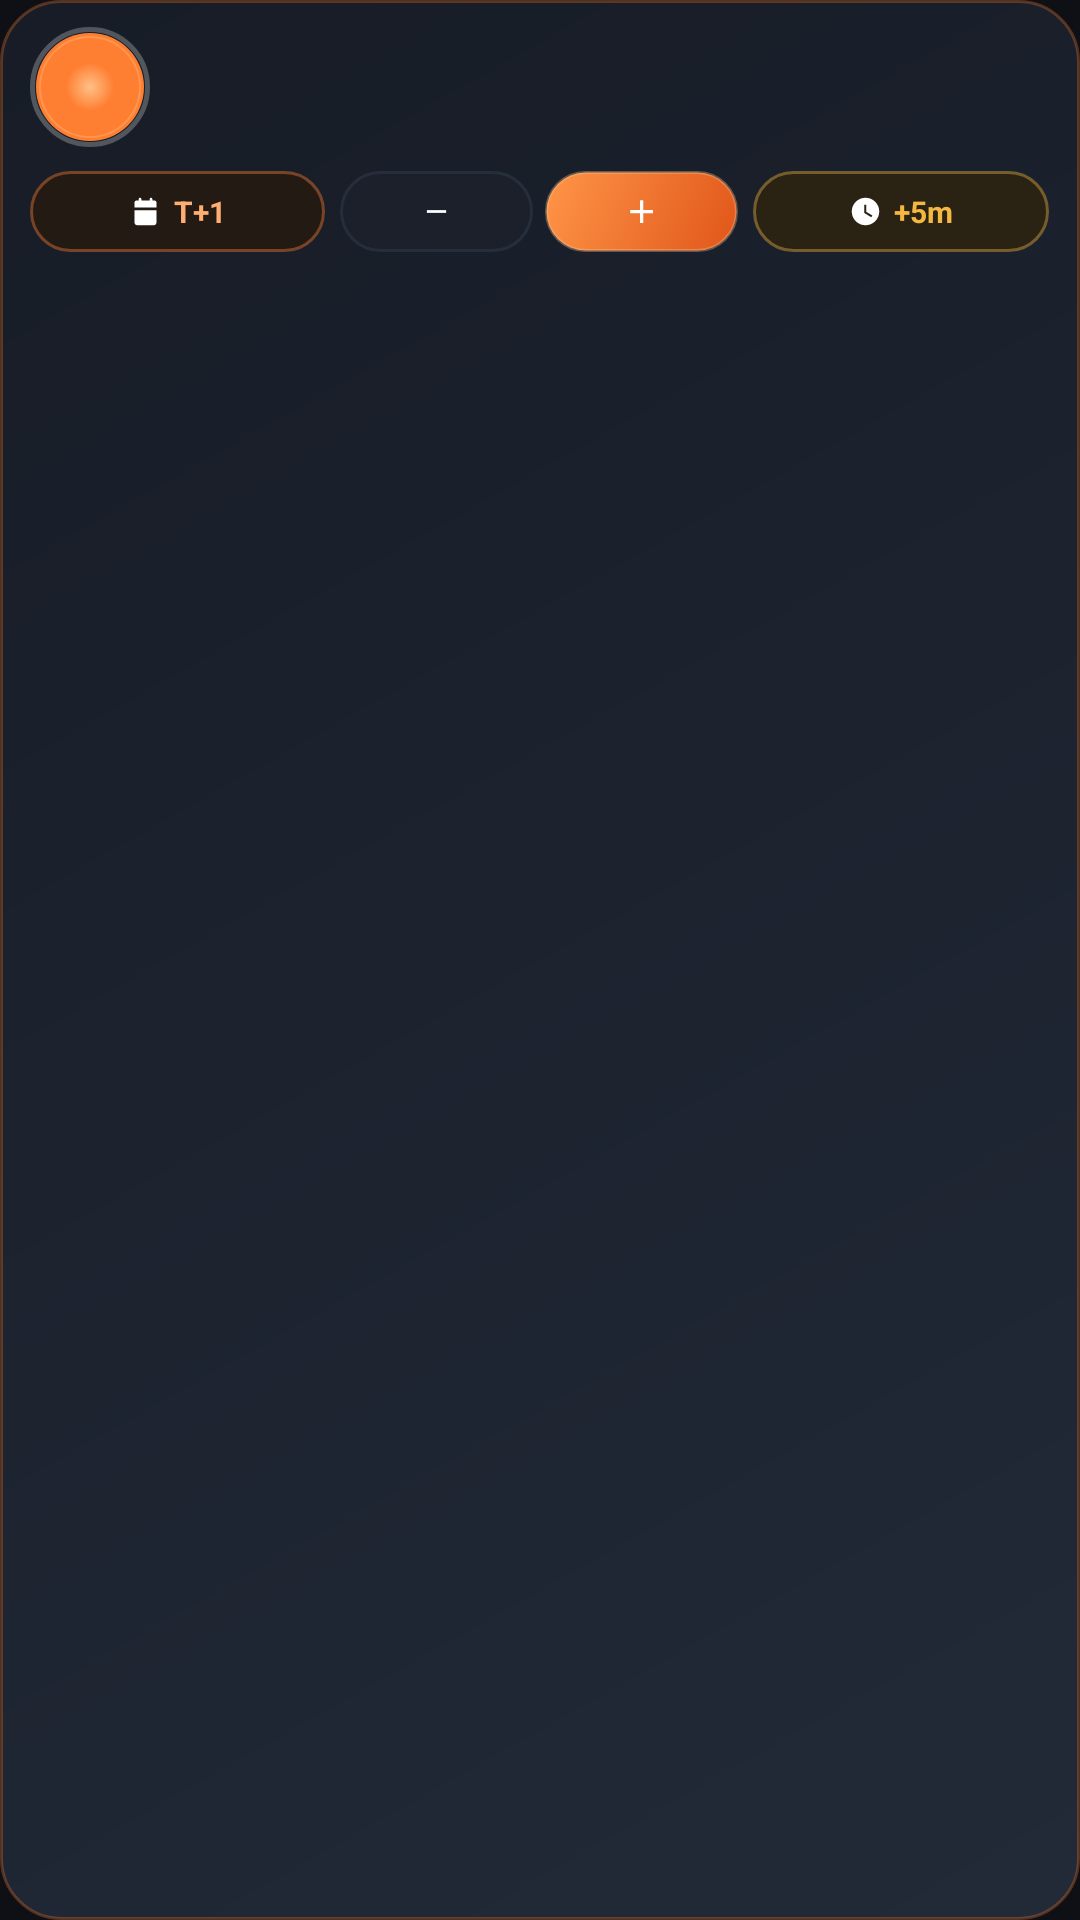

Screen size 1080*1920. Icon name, then its box in pixels as (x1, y1, x2, y2):
widget dot: (36, 33, 144, 141)
widget minute: (851, 197, 880, 226)
widget plus: (545, 171, 738, 252)
